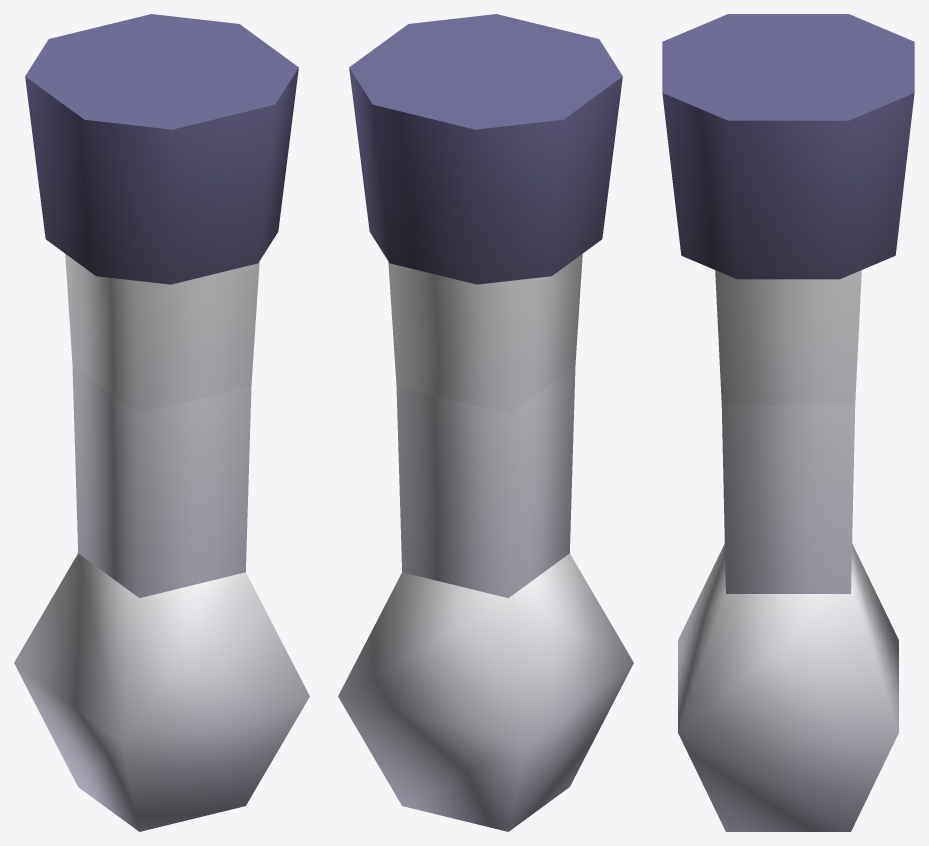
Rendered from aid-cane-blind.obj.
The picture shows the model from 3 angles, left to right: view 1: azimuth 30°, elevation 25°; view 2: azimuth 150°, elevation 25°; view 3: azimuth 270°, elevation 25°; orthographic projection.
Visible parts, largest first — view 1: aid-cane-blind; view 2: aid-cane-blind; view 3: aid-cane-blind.
Part boxes in pixels (x1,y1,x2,y2): aid-cane-blind: (14,14,309,831); aid-cane-blind: (338,14,633,831); aid-cane-blind: (662,14,914,831).
Size of the model in its own units: 0.096 by 0.31 by 0.096.
Materials: 1 (1 with a texture image).
